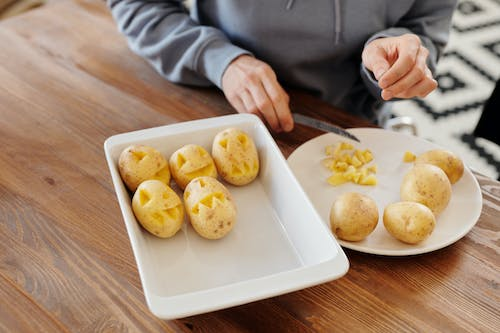knife: (289, 112, 362, 144)
